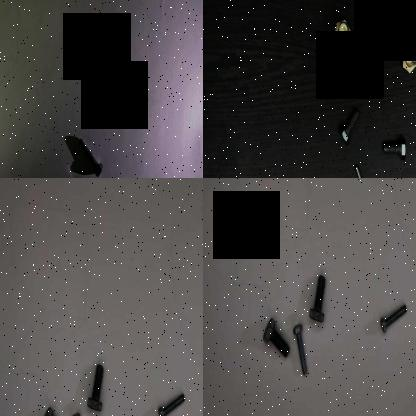Bolts: (260, 314, 292, 362), (74, 127, 103, 178), (85, 358, 107, 412), (307, 270, 329, 324), (378, 294, 406, 336), (337, 102, 363, 146), (156, 383, 184, 416), (292, 320, 308, 376), (330, 14, 352, 53), (380, 134, 408, 164), (396, 40, 416, 78), (348, 159, 372, 178), (38, 403, 70, 416), (368, 58, 380, 78)
